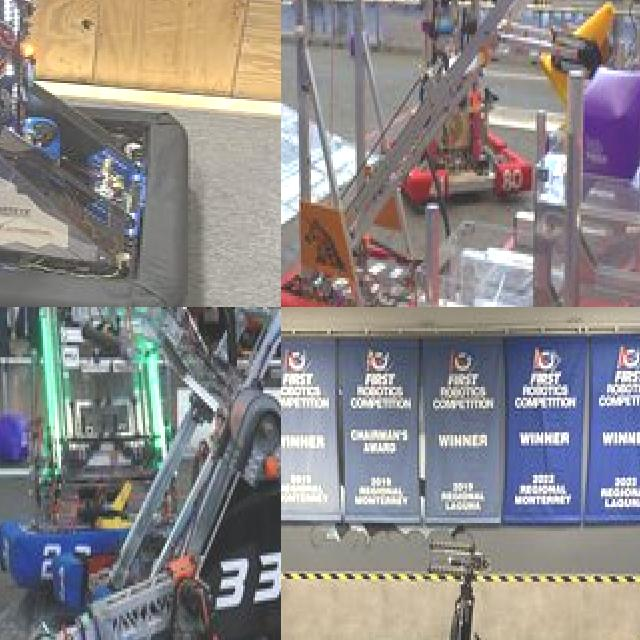FRC-Robots: (281, 0, 629, 307), (22, 307, 281, 640), (0, 0, 245, 307), (0, 307, 247, 593), (360, 0, 571, 205), (397, 515, 513, 640), (47, 529, 147, 609)
